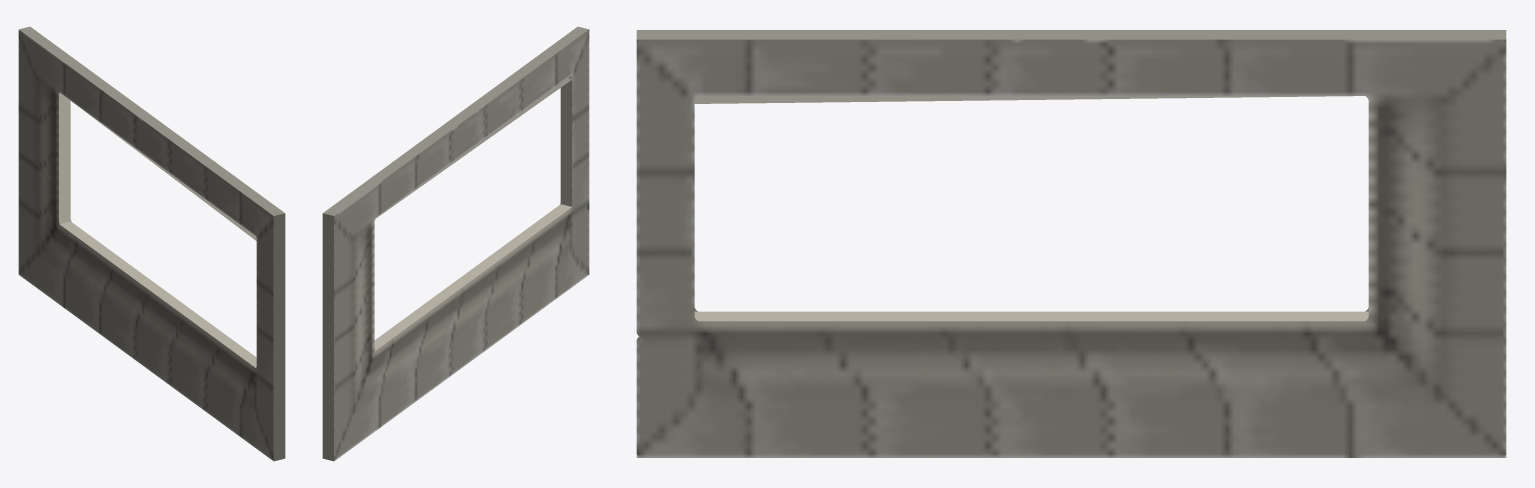
File: pz_native_fixtures_windows_church_112_frame.obj
3 renders of one model, left to right at view 1: azimuth 30°, elevation 25°; view 2: azimuth 150°, elevation 25°; view 3: azimuth 270°, elevation 25°, orthographic. The views are drawn at different scales.
Parts seen in each view (by area): view 1: pz_native_fixtures_windows_church_112_frame; view 2: pz_native_fixtures_windows_church_112_frame; view 3: pz_native_fixtures_windows_church_112_frame.
Boxes of the visible parts, x1,y1,x2,y2 form: pz_native_fixtures_windows_church_112_frame: (18,26,285,461); pz_native_fixtures_windows_church_112_frame: (322,26,589,461); pz_native_fixtures_windows_church_112_frame: (636,30,1506,457).
Bounding box in the file's own units: 0.04 × 0.875 × 1.58.
Materials: 1 (1 with a texture image).
